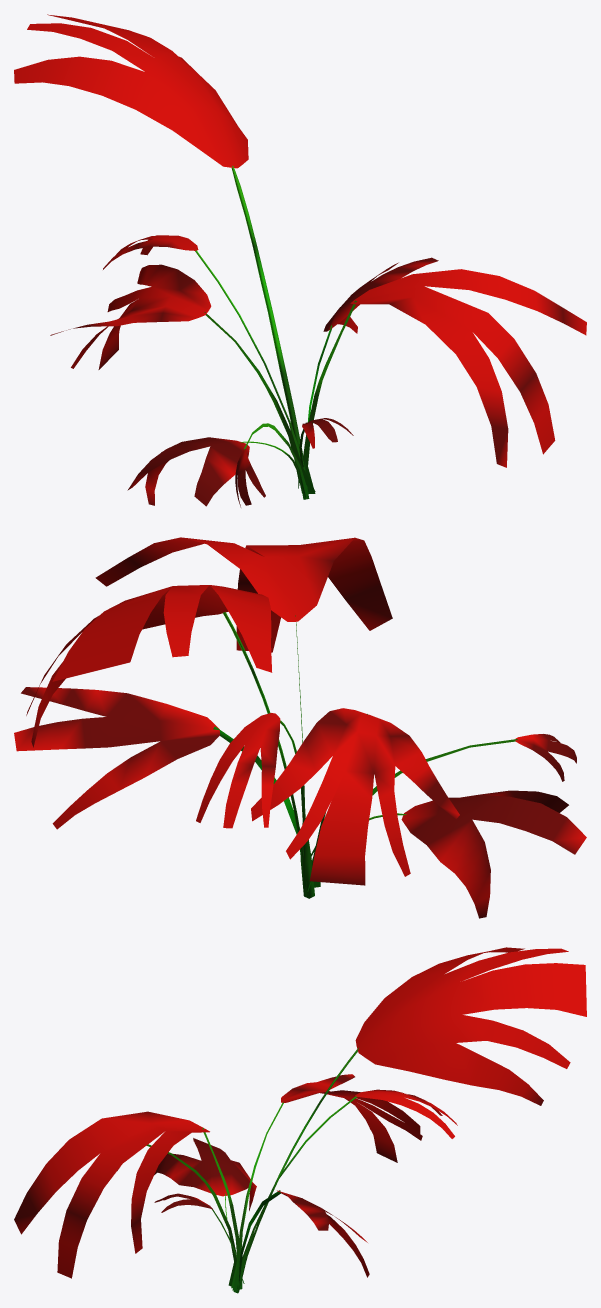
The model's file is Var5_LOD0.fbx.
3 renders of one model, top to bottom at view 1: azimuth 30°, elevation 25°; view 2: azimuth 150°, elevation 25°; view 3: azimuth 270°, elevation 25°, orthographic. The views are drawn at different scales.
Visible parts, largest first — view 1: _4705_Var5_LOD0; view 2: _4705_Var5_LOD0; view 3: _4705_Var5_LOD0.
Part boxes in pixels (left/top/right/bottom): _4705_Var5_LOD0: left=14, top=14, right=586, bottom=507; _4705_Var5_LOD0: left=14, top=537, right=586, bottom=918; _4705_Var5_LOD0: left=14, top=947, right=586, bottom=1293.
Size of the model in its own units: 96.8 by 78.78 by 131.
